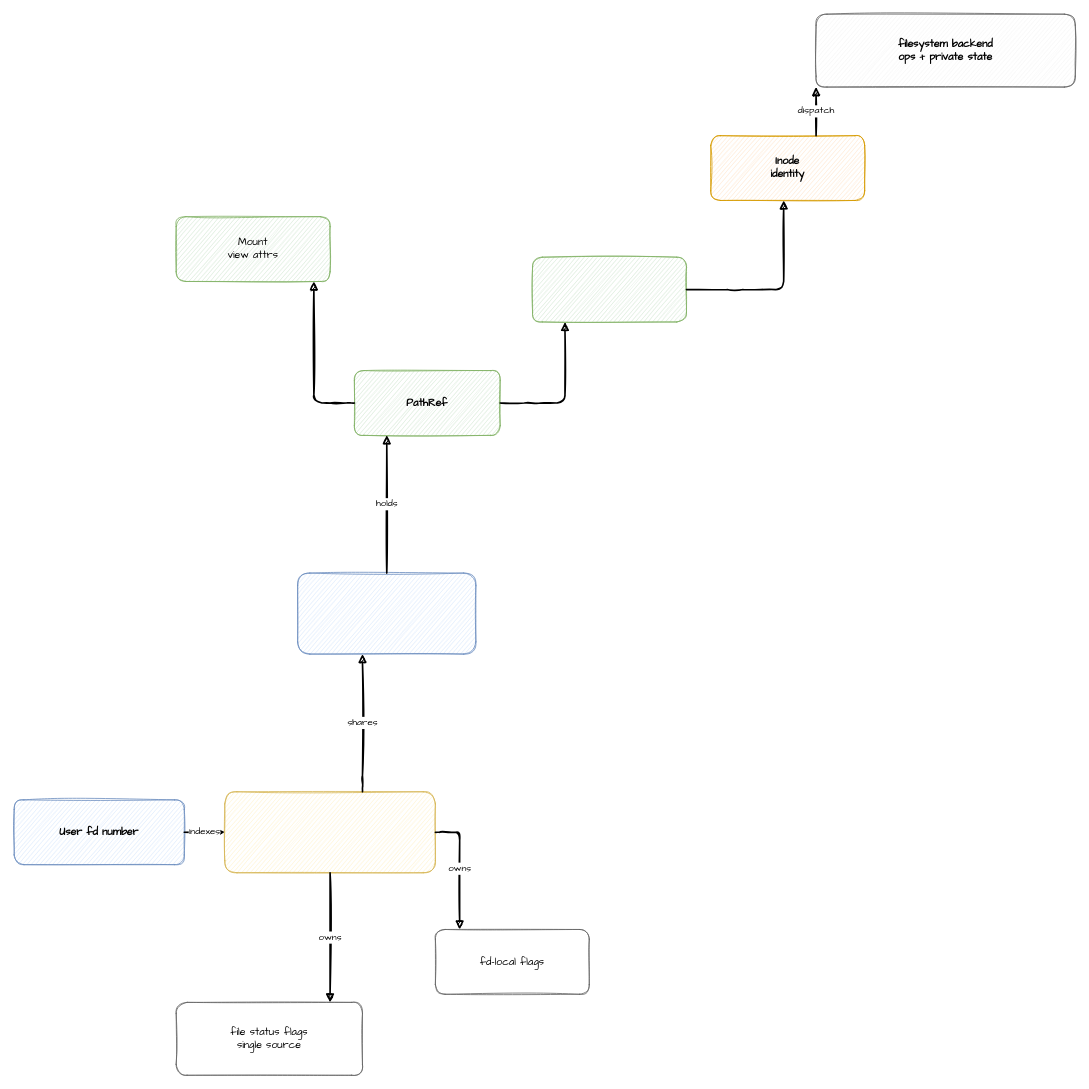
Some shapes in this 1089 by 1089 pixel diagram are drawn without their labels. Each missing label, with the centre of its shape:
Dentry name edge: the point at 609,289
File open object: the point at 386,613
FileDesc opened file description: the point at 329,832
